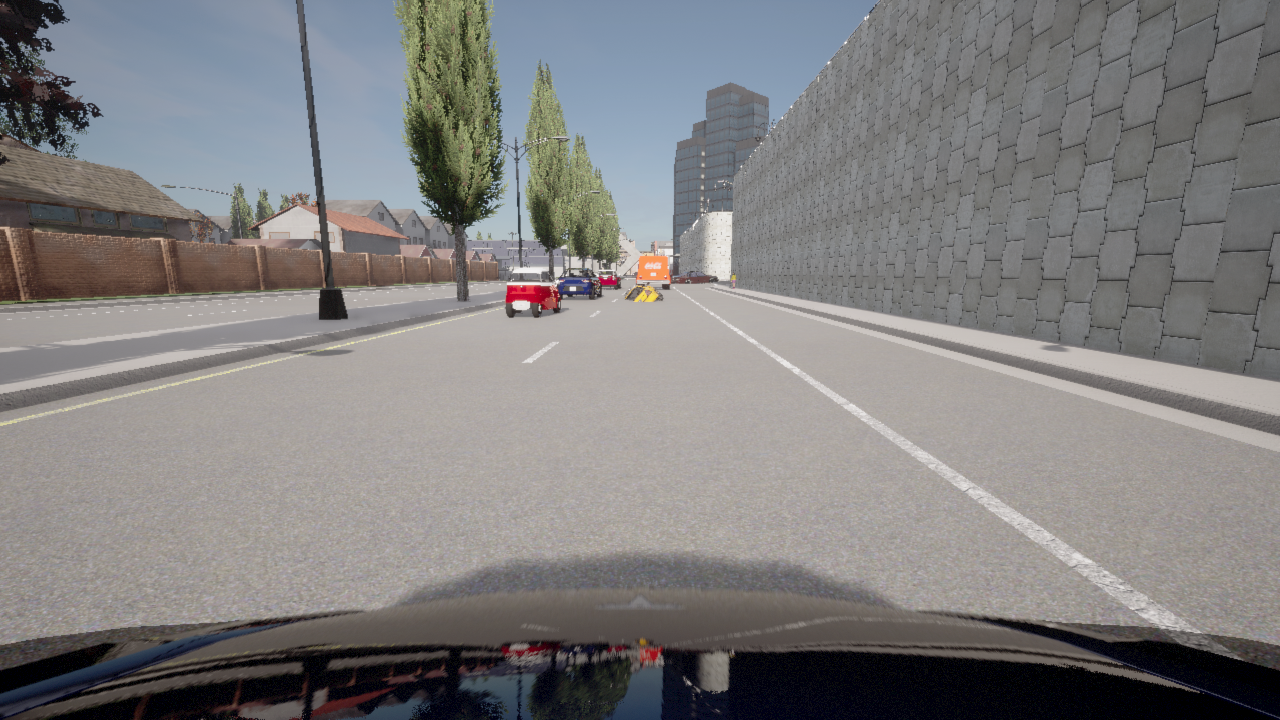cyclist: (0, 588, 1279, 719), (505, 268, 560, 317), (556, 268, 601, 299), (636, 256, 670, 289), (624, 282, 662, 301), (670, 271, 718, 283), (596, 270, 620, 288)
pedestrian: (731, 273, 735, 288)
